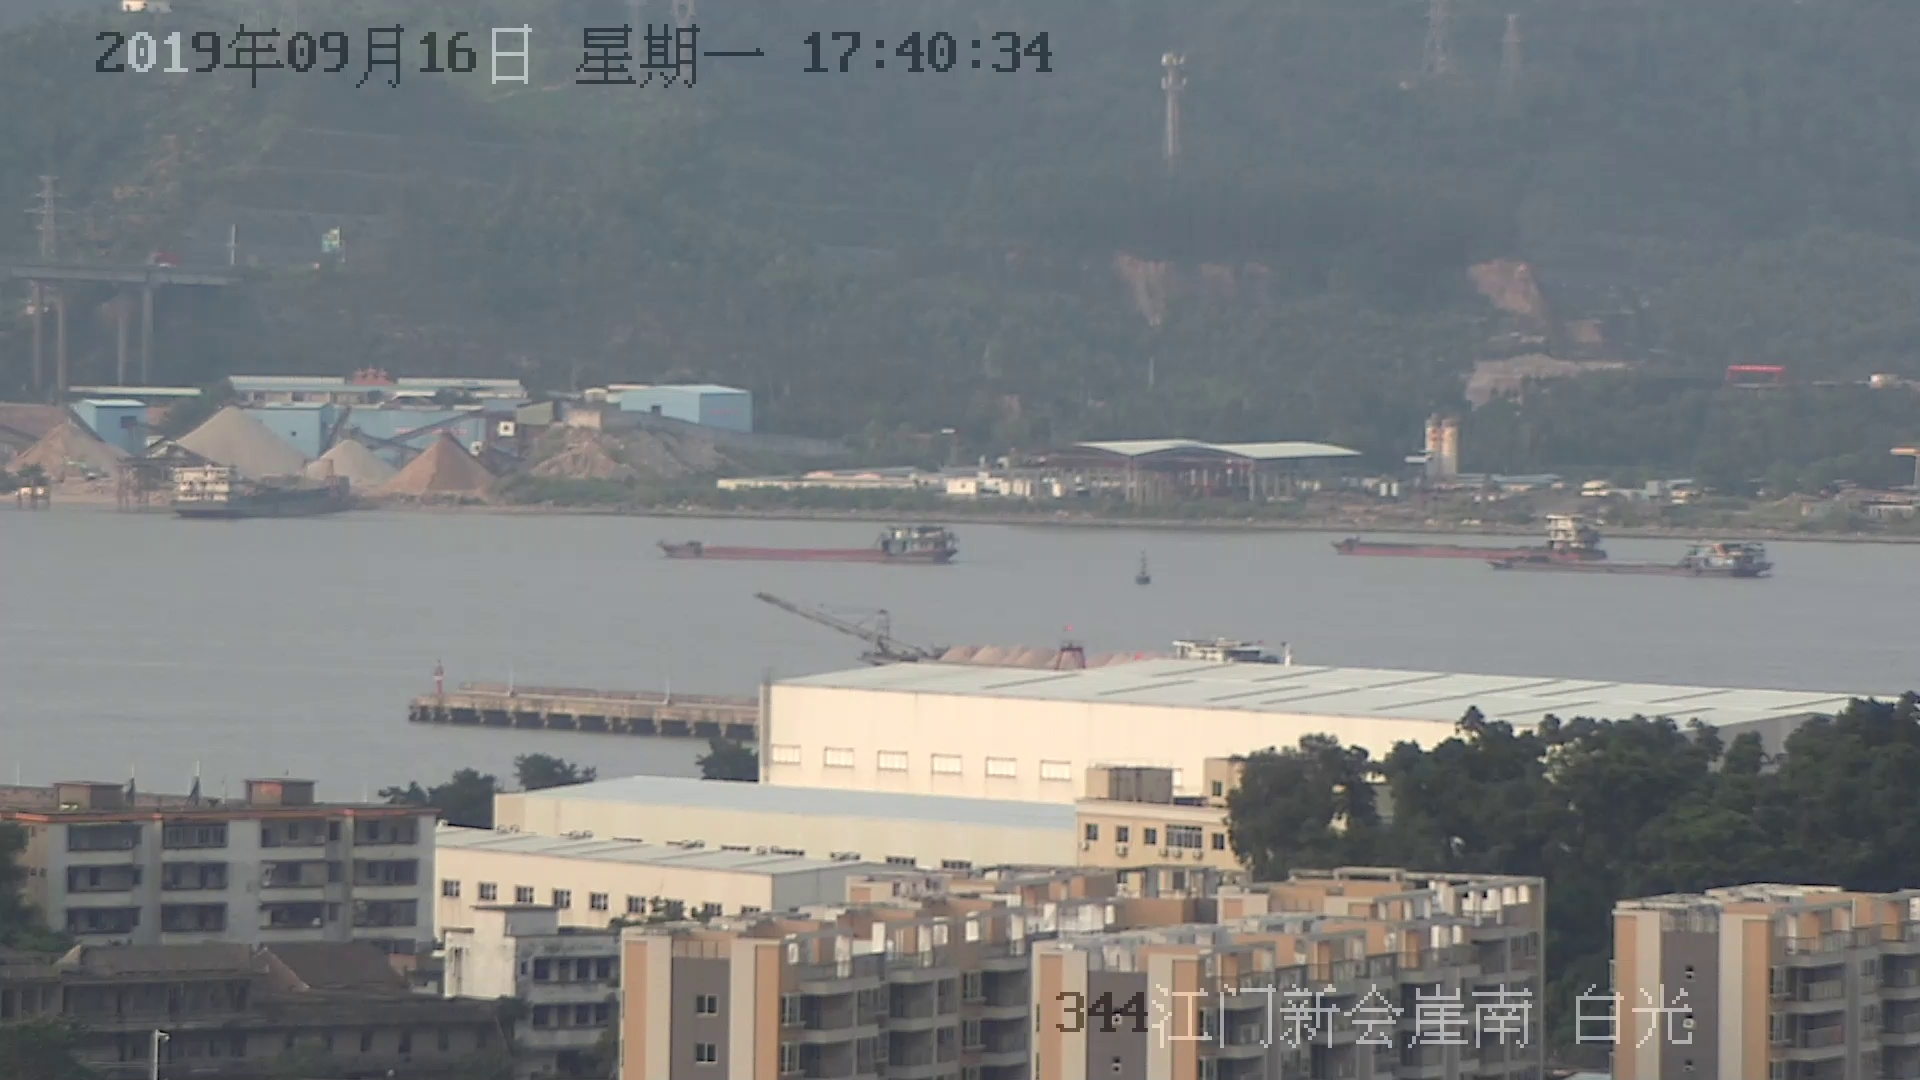ship: (650, 525, 957, 567), (1327, 510, 1606, 556), (1498, 542, 1783, 578)
